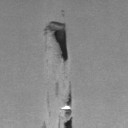slag inclusion: (44, 20, 69, 63), (58, 80, 73, 128), (40, 121, 47, 128), (56, 80, 59, 96), (60, 9, 64, 17)
